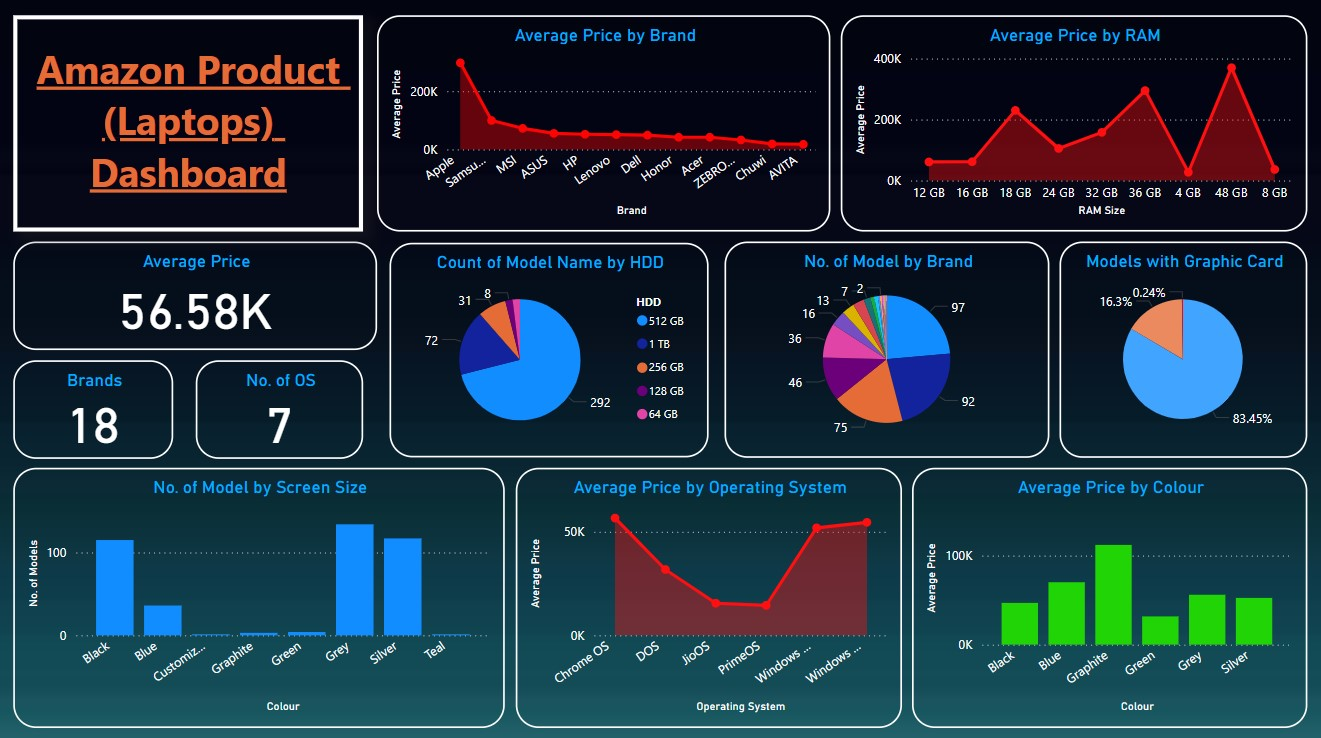

The dashboard page shown, as its layout file describes it:
{"tool":"powerbi","page":{"name":"Page 1","canvas":[1280,720],"ordinal":0},"visuals":[{"type":"card","title":"Average Price","fields":{"Values":["mobile.Average Price"]},"box":[15.7,234,351.1,105],"z":0},{"type":"lineChart","fields":{"Y":["mobile.Average Price"],"Category":["mobile.Operating System","mobile.CPU Model"]},"box":[500.7,452.4,372.8,250.9],"z":1000},{"type":"pieChart","title":"Models with Graphic Card","fields":{"Y":["CountNonNull(mobile.Model Name)"],"Category":["mobile.Graphics Card Description"]},"box":[1025.5,234,238.9,208.7],"z":2000},{"type":"clusteredColumnChart","fields":{"Y":["mobile.Average Price"],"Category":["mobile.Colour","mobile.Screen Size"]},"box":[883.1,452.4,381.2,250.9],"z":3000},{"type":"pieChart","fields":{"Y":["CountNonNull(mobile.Model Name)"],"Category":["mobile.RAM Memory Installed Size Hierarchy.HDD","mobile.RAM Memory Installed Size Hierarchy.RAM Memory Installed Size"]},"box":[378.8,235.3,307.6,207.5],"z":4000},{"type":"pieChart","title":"No. of Model by Brand","fields":{"Category":["mobile.Brand"],"Y":["CountNonNull(mobile.Model Name)"]},"box":[702.1,234,313.7,208.7],"z":5000},{"type":"lineChart","fields":{"Category":["mobile.RAM Memory Installed Size","mobile.HDD"],"Y":["mobile.Average Price"]},"box":[814.3,15.7,450,208.7],"z":6000},{"type":"columnChart","title":"No. of Model by Screen Size","fields":{"Category":["mobile.Colour","mobile.Screen Size"],"Y":["CountNonNull(mobile.Model Name)"]},"box":[15.7,452.4,474.1,250.9],"z":7000},{"type":"textbox","box":[15.7,15.7,337.8,208.7],"z":8000},{"type":"lineChart","fields":{"Category":["mobile.Brand"],"Y":["mobile.Average Price"]},"box":[366.8,15.7,437.9,208.7],"z":9000},{"type":"card","title":"Brands","fields":{"Values":["Count(mobile.Brand)"]},"box":[15.7,348.7,154.4,95.3],"z":10000},{"type":"card","title":"No. of OS","fields":{"Values":["Count(mobile.Operating System)"]},"box":[191.8,348.7,161.7,95.3],"z":11000}]}

Visuals, with their boxes in screenshot pixels (x1, y1, x2, y2), scaled from the page's 1280x720 canvas onto the 1321x738 screenshot:
"Average Price" card: bbox=(16, 240, 379, 347)
lineChart - mobile.Average Price x mobile.Operating System: bbox=(517, 464, 901, 721)
"Models with Graphic Card" pieChart: bbox=(1058, 240, 1305, 454)
clusteredColumnChart - mobile.Average Price x mobile.Colour: bbox=(911, 464, 1305, 721)
pieChart - CountNonNull(mobile.Model Name) x mobile.RAM Memory Installed Size Hierarchy.HDD: bbox=(391, 241, 708, 454)
"No. of Model by Brand" pieChart: bbox=(725, 240, 1048, 454)
lineChart - mobile.RAM Memory Installed Size x mobile.HDD: bbox=(840, 16, 1305, 230)
"No. of Model by Screen Size" columnChart: bbox=(16, 464, 505, 721)
textbox: bbox=(16, 16, 365, 230)
lineChart - mobile.Brand x mobile.Average Price: bbox=(379, 16, 830, 230)
"Brands" card: bbox=(16, 357, 176, 455)
"No. of OS" card: bbox=(198, 357, 365, 455)
